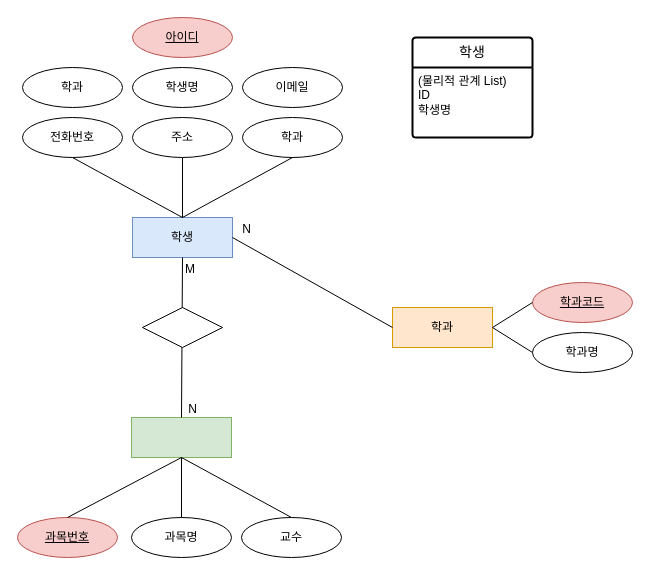
This 650x575 diagram has some shape labels left out. The shapes that lost their labels are listed below. From the top down, each one's centre as x and y in pixels, then its label:
At point (182, 327): "수강".
At point (181, 437): "과목".
